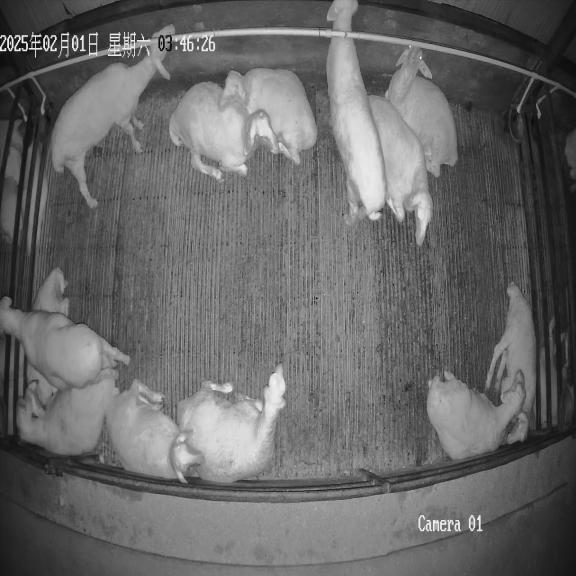lying: (178, 363, 286, 483), (168, 82, 287, 180), (106, 380, 204, 484), (368, 95, 433, 245), (385, 46, 457, 177), (221, 68, 317, 163), (427, 371, 525, 460), (485, 283, 536, 444), (18, 378, 119, 456), (29, 268, 69, 408)
stand: (51, 24, 175, 208), (326, 0, 386, 224), (0, 297, 130, 389)
